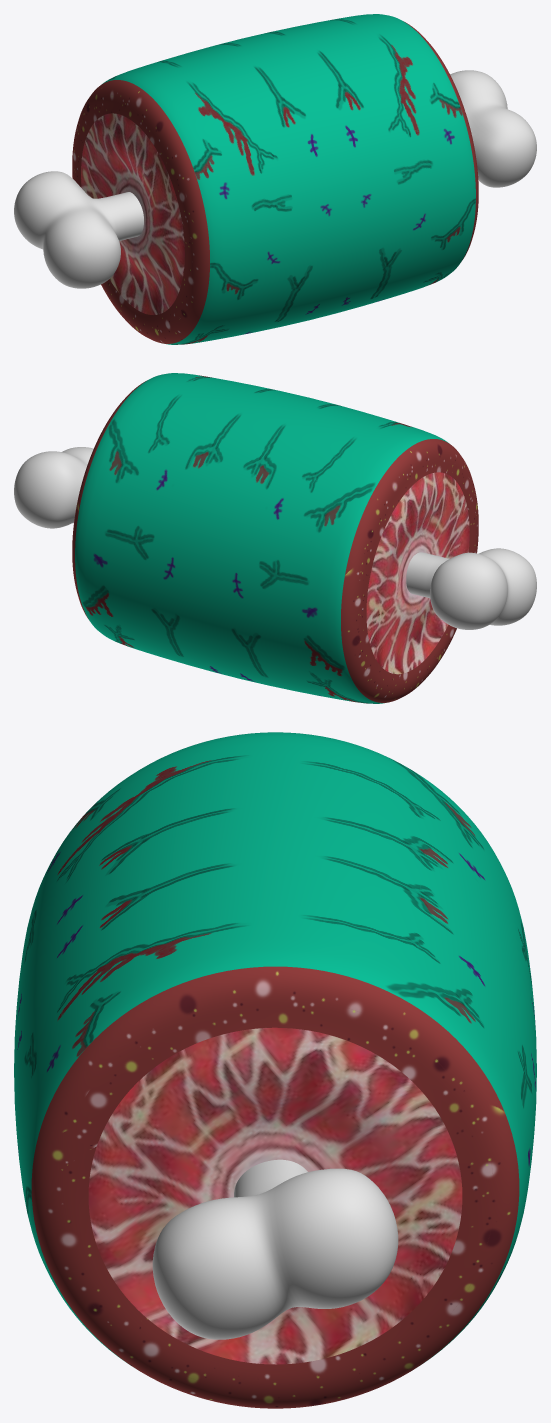
Rendered from mystery_meat_final.fbx.
3 renders of one model, top to bottom at view 1: azimuth 30°, elevation 25°; view 2: azimuth 150°, elevation 25°; view 3: azimuth 270°, elevation 25°, orthographic. The views are drawn at different scales.
Parts seen in each view (by area): view 1: Ham, Bone; view 2: Ham, Bone; view 3: Ham, Bone.
Part boxes in pixels (x1,y1,x2,y2): Ham: (72, 14, 478, 344); Bone: (14, 70, 536, 288); Ham: (72, 373, 478, 703); Bone: (14, 447, 536, 629); Ham: (14, 732, 536, 1408); Bone: (152, 1159, 398, 1339).
Size of the model in its own units: 759 by 395 by 395.
4 materials, 3 textured.
